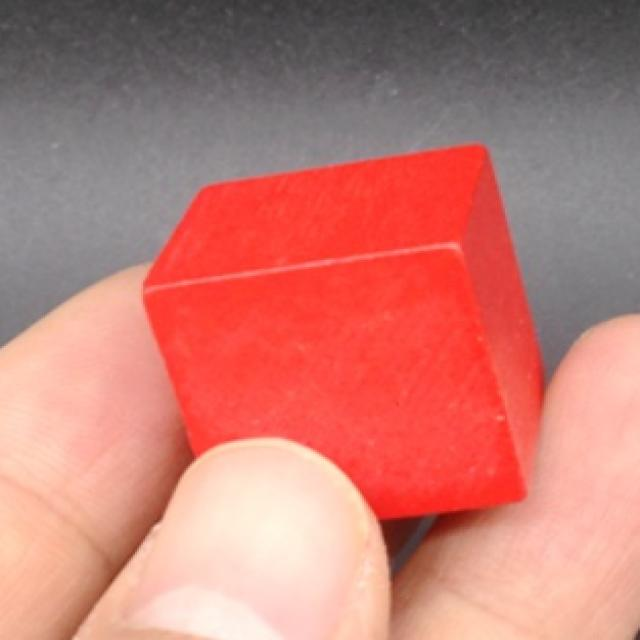red cube: (139, 143, 546, 527)
